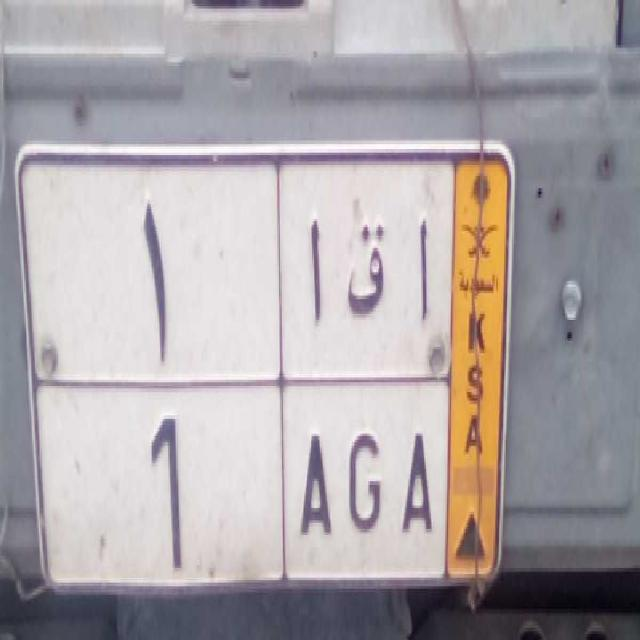license_plate: (33, 374, 450, 598)
